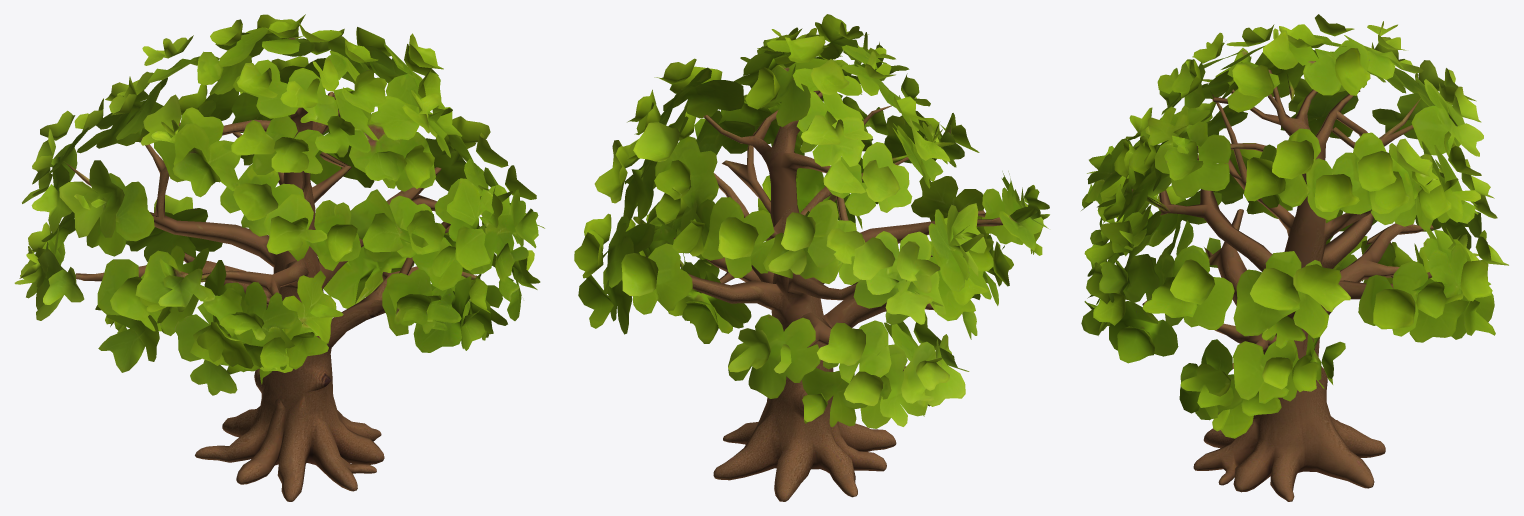
The model's file is Oak_Tripo_A.fbx.
3 views of the same model, side by side, from view 1: azimuth 30°, elevation 25°; view 2: azimuth 150°, elevation 25°; view 3: azimuth 270°, elevation 25° (orthographic). The views are drawn at different scales.
Visible parts, largest first — view 1: Oak_Tripo_A; view 2: Oak_Tripo_A; view 3: Oak_Tripo_A.
Part boxes in pixels (x1,y1,x2,y2): Oak_Tripo_A: [14, 14, 544, 501]; Oak_Tripo_A: [574, 14, 1049, 501]; Oak_Tripo_A: [1081, 14, 1508, 501].
Size of the model in its own units: 2.66 by 2.65 by 2.37.
2 materials, 2 textured.
